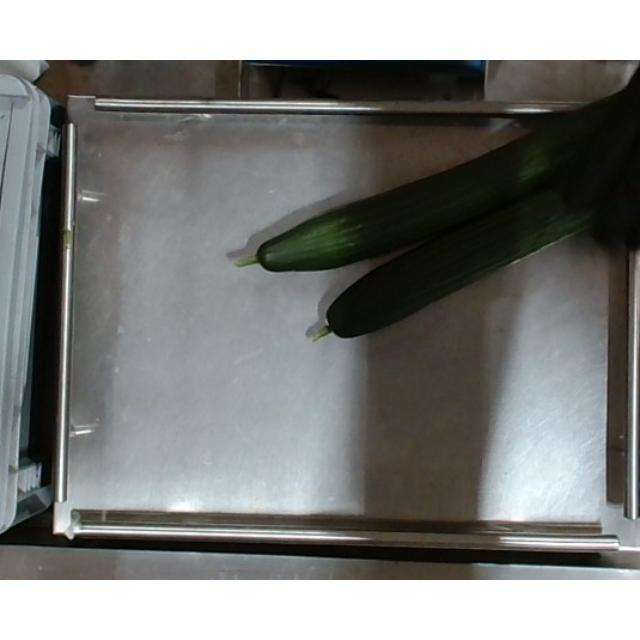cucumber: (240, 104, 640, 278), (317, 158, 631, 346)
